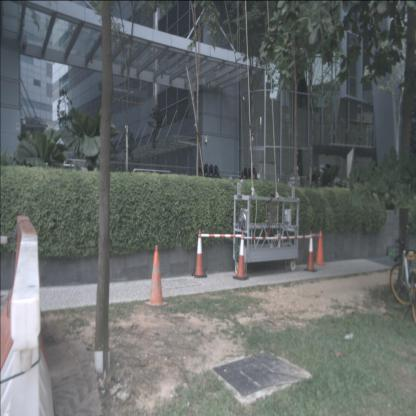human-pedestrian-adult: (293, 170, 301, 196), (288, 170, 295, 195)
movable_object-barrier: (0, 233, 55, 415), (0, 215, 49, 385)
movable_object-trafficcone: (146, 244, 168, 307), (233, 231, 249, 281), (192, 229, 207, 278), (303, 230, 318, 272), (314, 230, 326, 266)
vehicle-bicycle: (384, 220, 416, 327)
